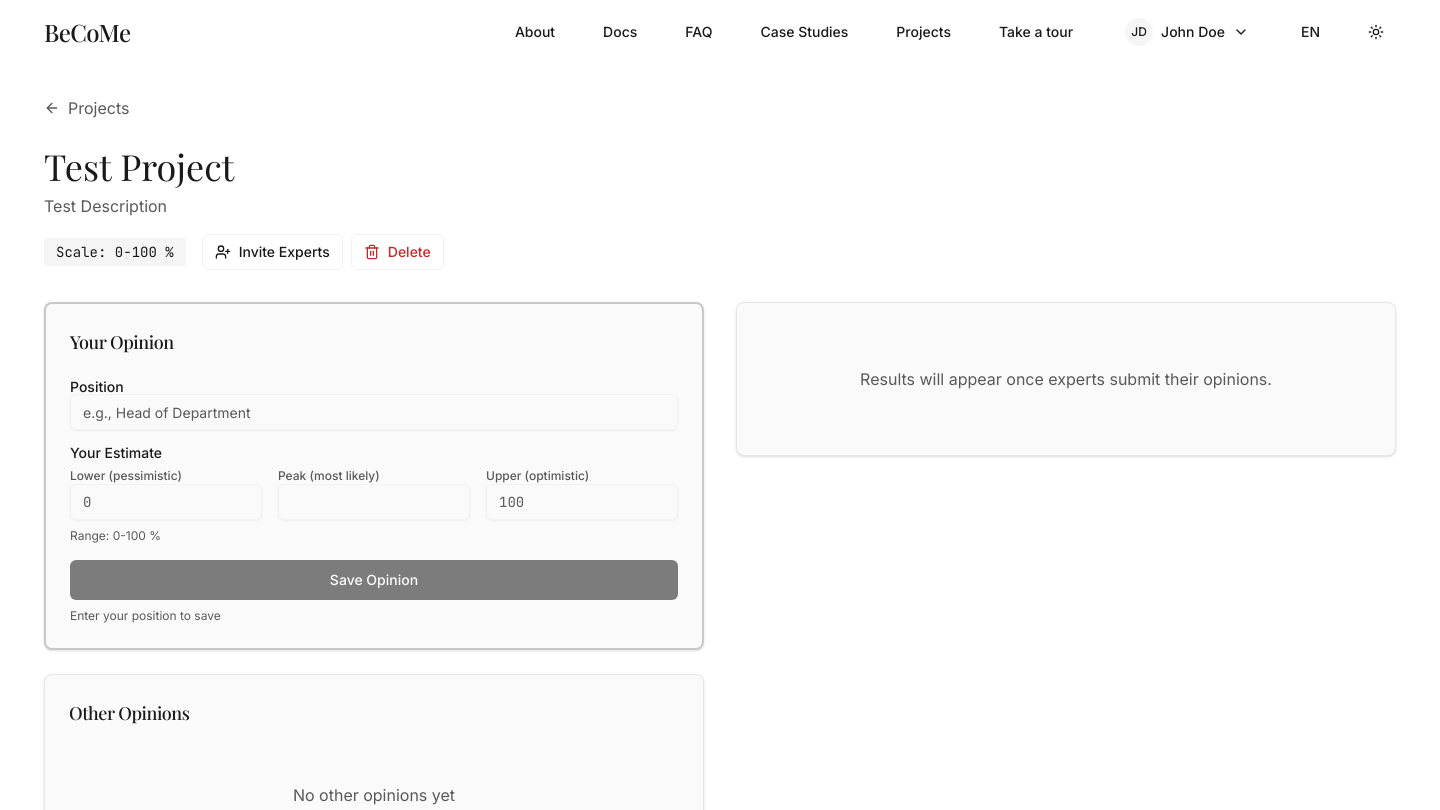
Test: ProjectDetail - Invite Modal › opens invite modal when Invite Experts button is clicked
Click the button "Invite Experts": (272, 252) [202,234,343,270]
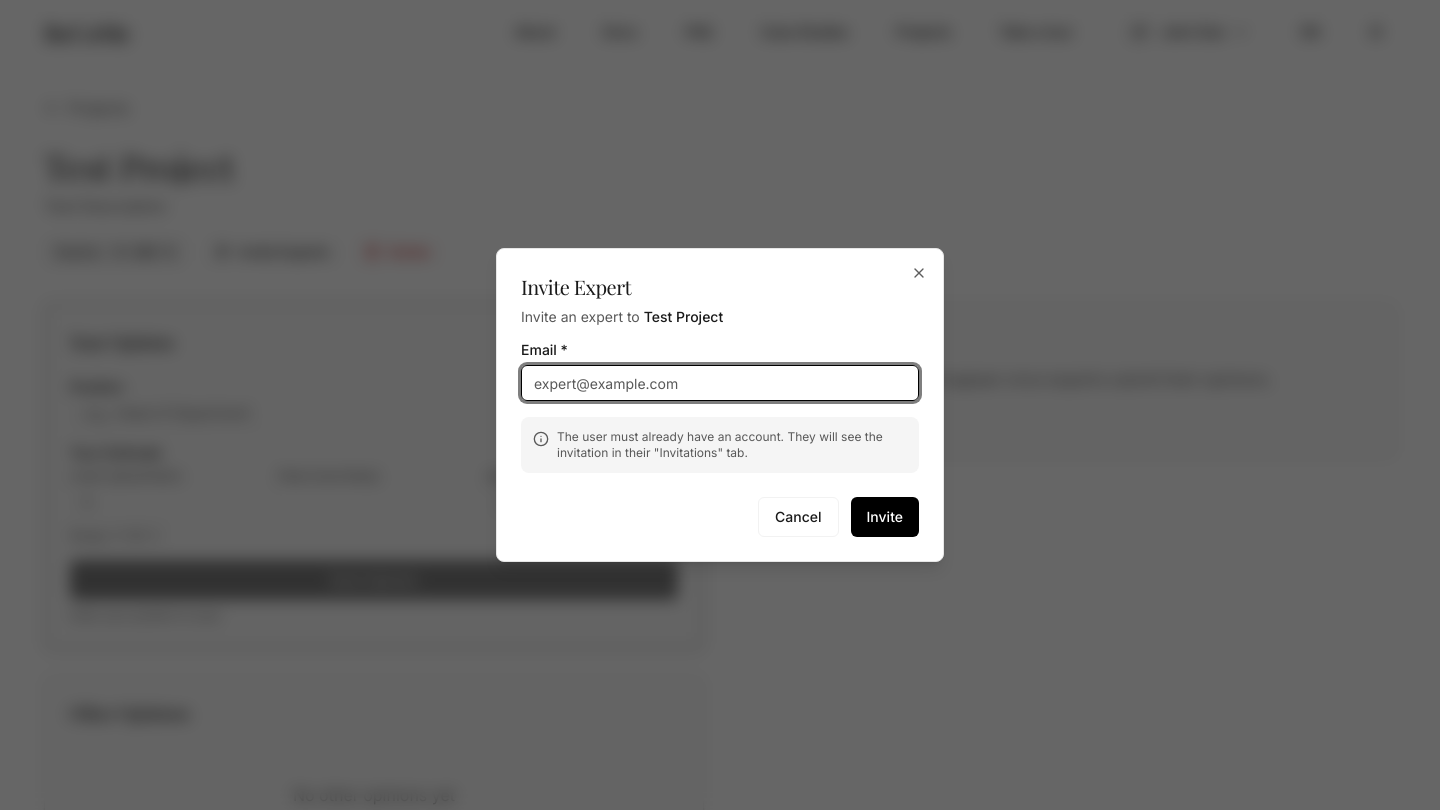
Expected: the dialog is shown, [496,248,944,562]
